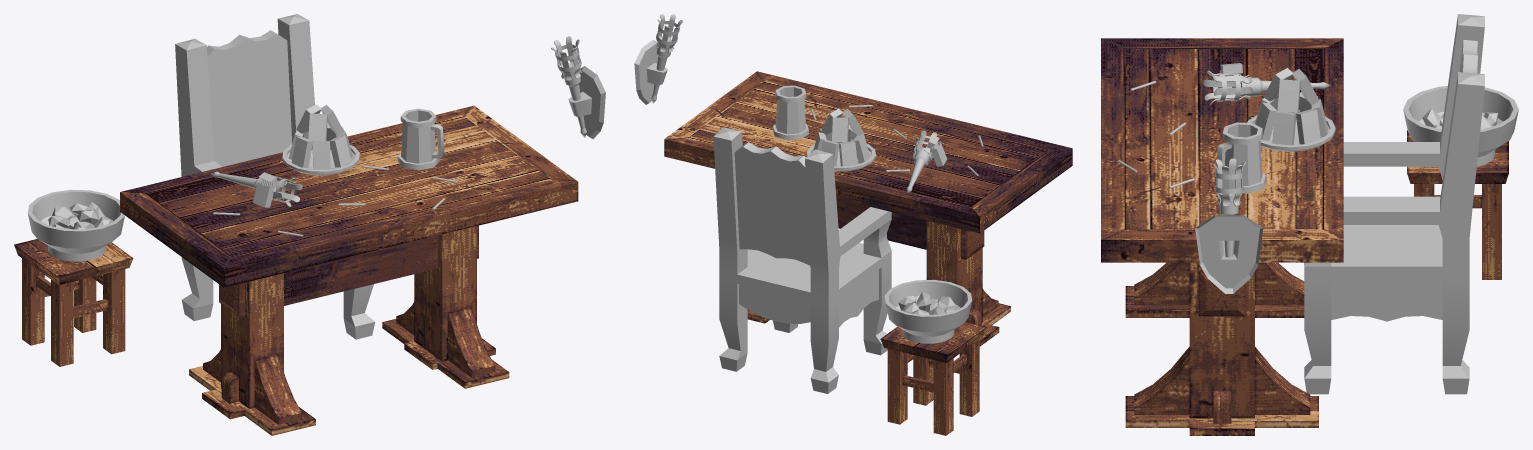
File: Interier_Scene.fbx
The picture shows the model from 3 angles, left to right: view 1: azimuth 30°, elevation 25°; view 2: azimuth 150°, elevation 25°; view 3: azimuth 270°, elevation 25°; orthographic projection. The views are drawn at different scales.
Parts seen in each view (by area): view 1: Стол.001, Стул.001, Табурет.001, Чаша.001, Коробка.002, Кружка.001, Подставка.002, Факел.004, Факел.002, Тарелка.001; view 2: Стол.001, Стул.001, Табурет.001, Чаша.001, Коробка.002, Кружка.001, Подставка.002, Факел.004, Факел.002, Тарелка.001; view 3: Стол.001, Стул.001, Чаша.001, Коробка.002, Подставка.002, Табурет.001, Кружка.001, Факел.002, Факел.004, Тарелка.001.
Part boxes in pixels (x1,y1,x2,y2): Стол.001: (120,105,578,435); Стул.001: (175,14,374,339); Табурет.001: (14,239,133,366); Чаша.001: (27,189,124,261); Коробка.002: (288,104,352,169); Кружка.001: (397,108,444,170); Подставка.002: (568,66,605,138); Факел.004: (551,36,586,137); Факел.002: (211,171,302,206); Тарелка.001: (282,144,359,175); Стол.001: (664,71,1072,346); Стул.001: (713,127,891,393); Табурет.001: (880,322,986,435); Чаша.001: (884,279,972,343); Коробка.002: (813,108,869,166); Кружка.001: (772,85,808,139); Подставка.002: (634,40,667,104); Факел.004: (651,14,683,103); Факел.002: (906,130,941,192); Тарелка.001: (807,139,875,171); Стол.001: (1101,38,1343,435); Стул.001: (1304,14,1484,394); Чаша.001: (1403,86,1518,166); Коробка.002: (1255,68,1327,145); Подставка.002: (1195,215,1263,293); Табурет.001: (1407,130,1508,279); Кружка.001: (1216,122,1266,193); Факел.002: (1203,70,1331,104); Факел.004: (1212,158,1246,257); Тарелка.001: (1247,109,1335,151).
Size of the model in its own units: 305 by 178 by 207.
